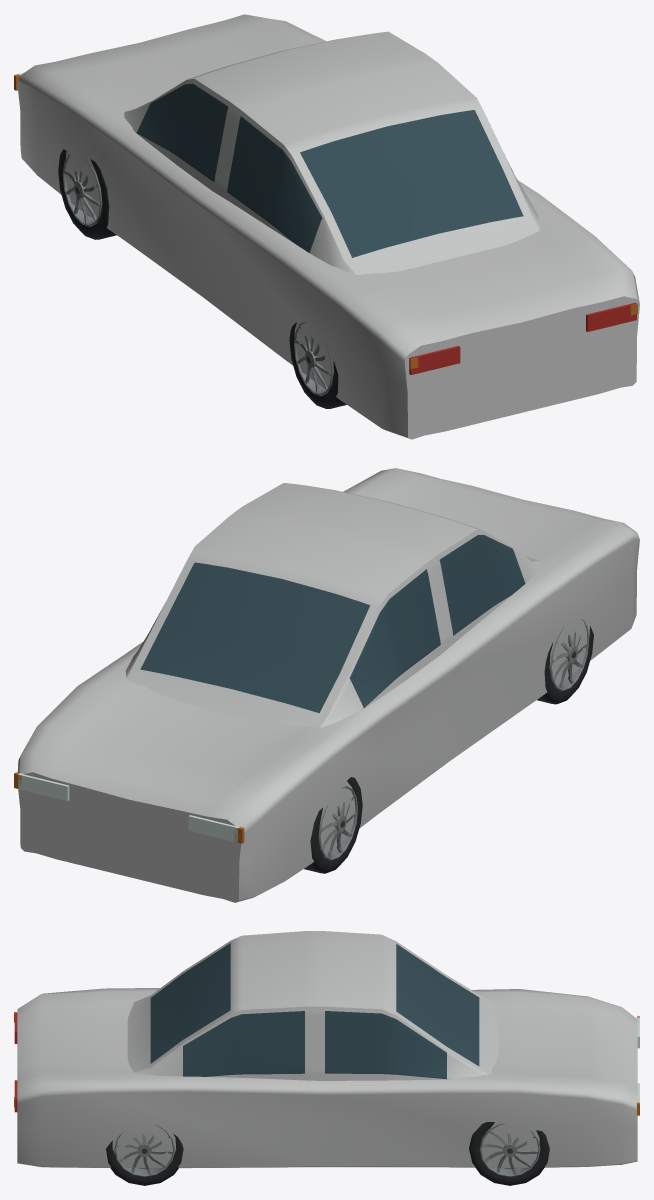
File: bellmont-lod.glb
The picture shows the model from 3 angles, top to bottom: view 1: azimuth 30°, elevation 25°; view 2: azimuth 150°, elevation 25°; view 3: azimuth 270°, elevation 25°; orthographic projection. The views are drawn at different scales.
Parts seen in each view (by area): view 1: paint, glass, wheelSurface (×2), brake; view 2: paint, glass, wheelSurface (×2), head; view 3: paint, glass, wheelSurface (×2).
Part boxes in pixels (bbox=[...]): paint: bbox=[17, 14, 639, 439]; glass: bbox=[137, 83, 523, 257]; wheelSurface (×2): bbox=[58, 149, 346, 408]; brake: bbox=[409, 302, 636, 374]; paint: bbox=[17, 468, 639, 902]; glass: bbox=[140, 535, 525, 713]; wheelSurface (×2): bbox=[304, 619, 593, 873]; head: bbox=[18, 773, 239, 842]; paint: bbox=[17, 931, 637, 1168]; glass: bbox=[150, 943, 479, 1079]; wheelSurface (×2): bbox=[106, 1122, 549, 1185].
Bounding box in the file's own units: 1.85 × 1.46 × 4.76.
